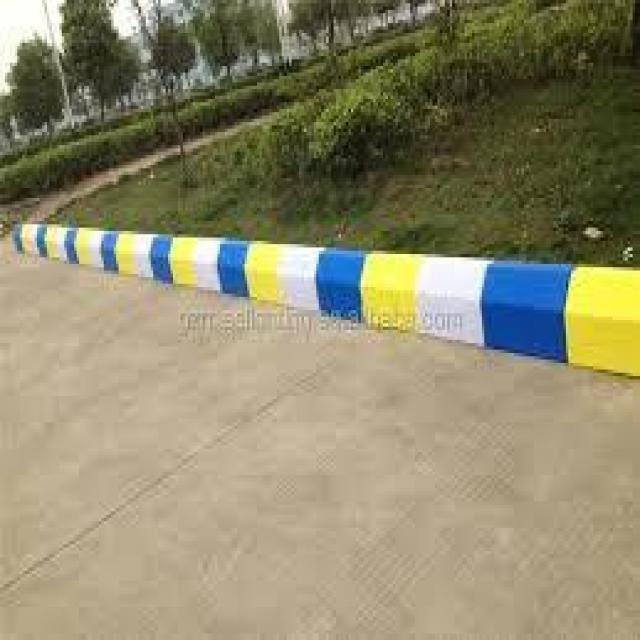curb: (406, 244, 640, 386), (297, 240, 396, 336), (167, 236, 290, 304), (63, 219, 162, 280), (2, 219, 58, 262)
